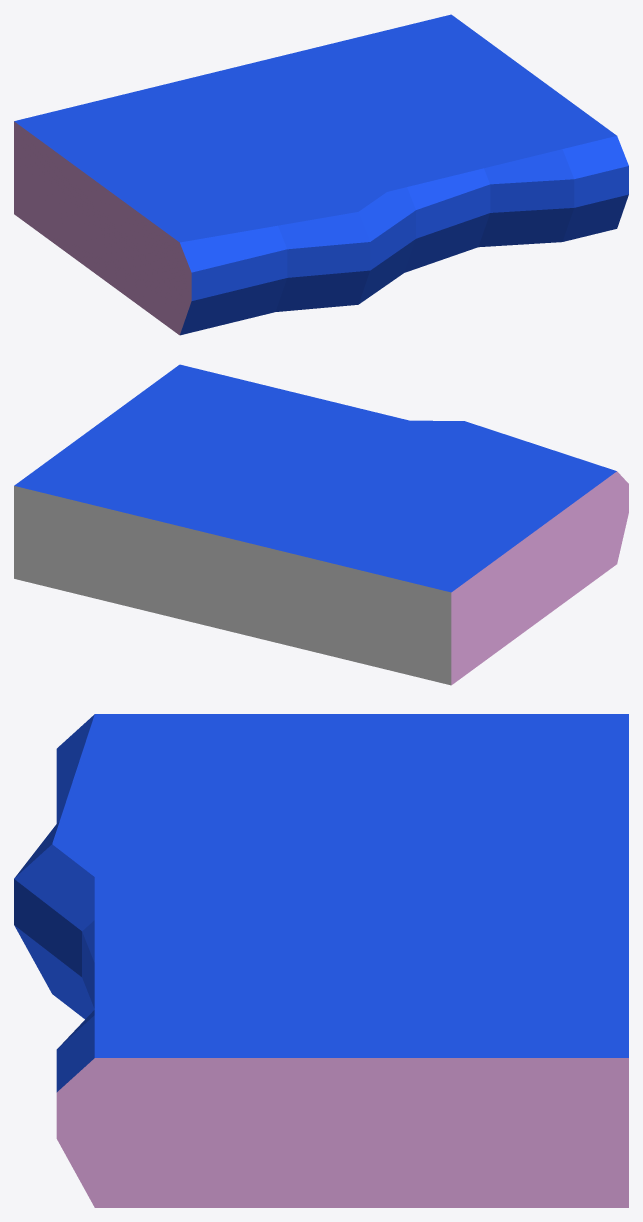
The model's file is Iceberg_Straight_2x2_2.glb.
The picture shows the model from 3 angles, top to bottom: view 1: azimuth 30°, elevation 25°; view 2: azimuth 150°, elevation 25°; view 3: azimuth 270°, elevation 25°; orthographic projection. The views are drawn at different scales.
Visible parts, largest first — view 1: Iceberg_Straight_2x2_2; view 2: Iceberg_Straight_2x2_2; view 3: Iceberg_Straight_2x2_2.
Part boxes in pixels (<box>): Iceberg_Straight_2x2_2: <box>14,14,628,335</box>; Iceberg_Straight_2x2_2: <box>14,364,628,685</box>; Iceberg_Straight_2x2_2: <box>14,714,628,1207</box>.
Bounding box in the file's own units: 200 × 40.62 × 151.
